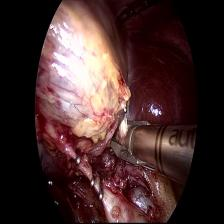Clipper: (109, 111, 157, 169)
